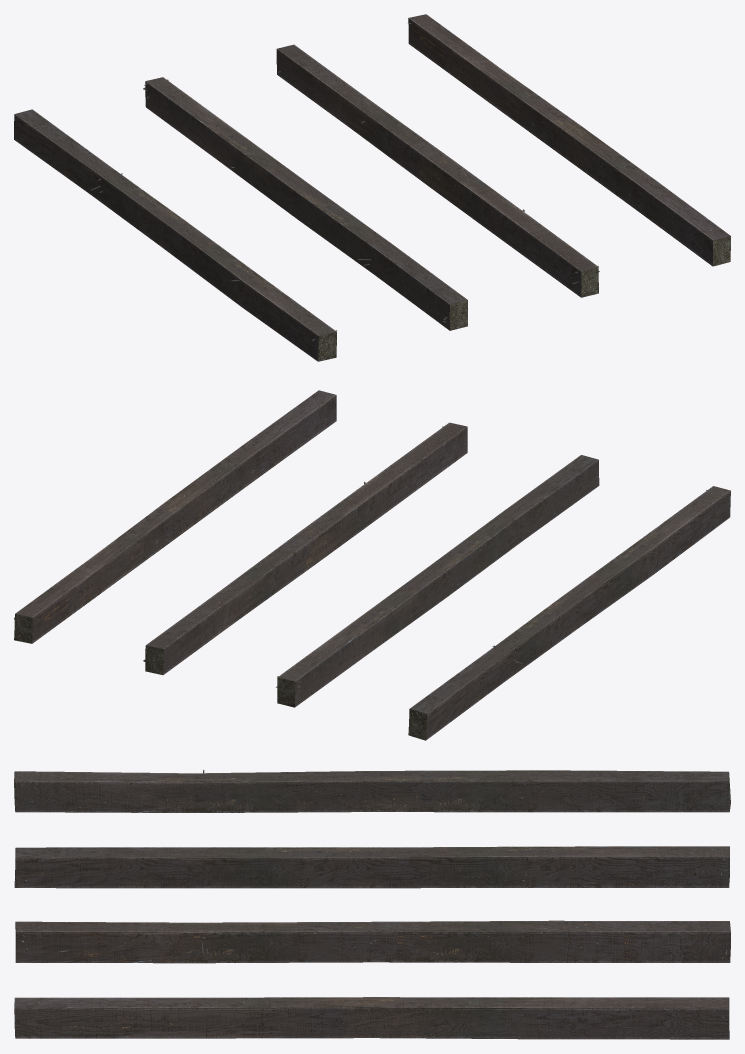
File: SM_CeilingE.FBX
3 views of the same model, one above another, from view 1: azimuth 30°, elevation 25°; view 2: azimuth 150°, elevation 25°; view 3: azimuth 270°, elevation 25° (orthographic). The views are drawn at different scales.
Parts seen in each view (by area): view 1: SM_CeilingE_LOD0; view 2: SM_CeilingE_LOD0; view 3: SM_CeilingE_LOD0.
Part boxes in pixels (box(x1,y1,x2,y2)): SM_CeilingE_LOD0: box(14, 14, 730, 361); SM_CeilingE_LOD0: box(14, 390, 730, 740); SM_CeilingE_LOD0: box(14, 769, 730, 1039).
Size of what is drawn, in the model's own units: 324 by 20.67 by 402.
